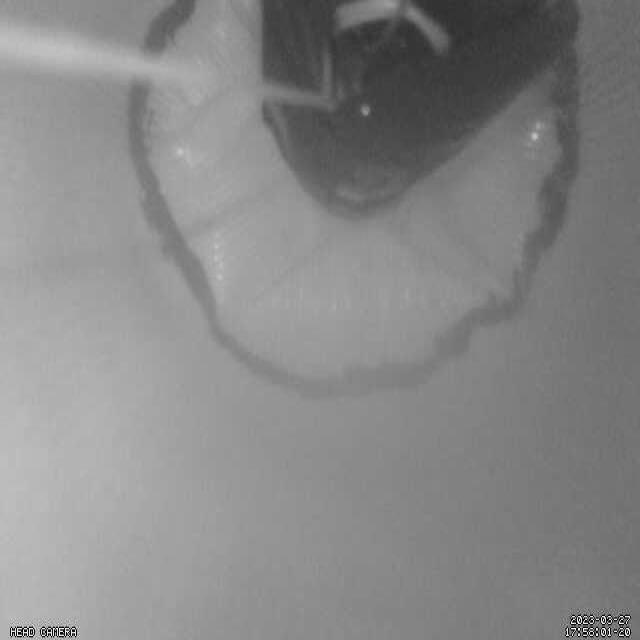red-circle: (126, 1, 584, 401)
